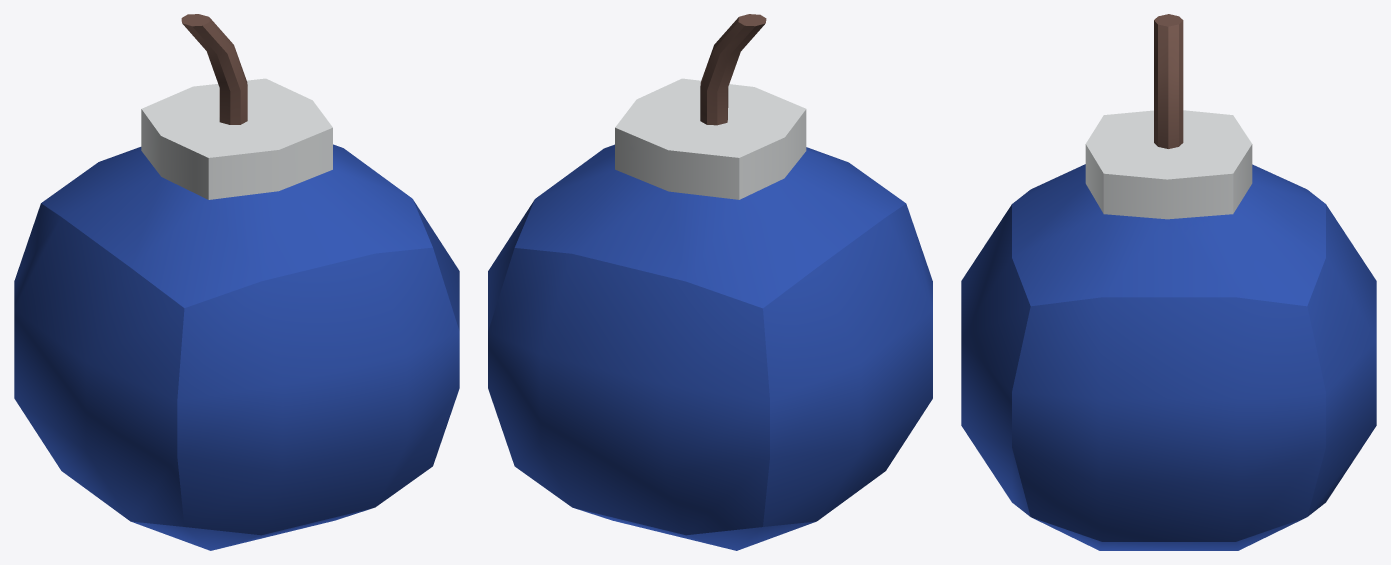
The model's file is bom.fbx.
3 views of the same model, side by side, from view 1: azimuth 30°, elevation 25°; view 2: azimuth 150°, elevation 25°; view 3: azimuth 270°, elevation 25° (orthographic). The views are drawn at different scales.
Parts seen in each view (by area): view 1: pCube1; view 2: pCube1; view 3: pCube1.
Part boxes in pixels (x1,y1,x2,y2): pCube1: (14,14,459,550); pCube1: (488,14,932,550); pCube1: (961,14,1376,550).
Bounding box in the file's own units: 1.32 × 1.69 × 1.32.
